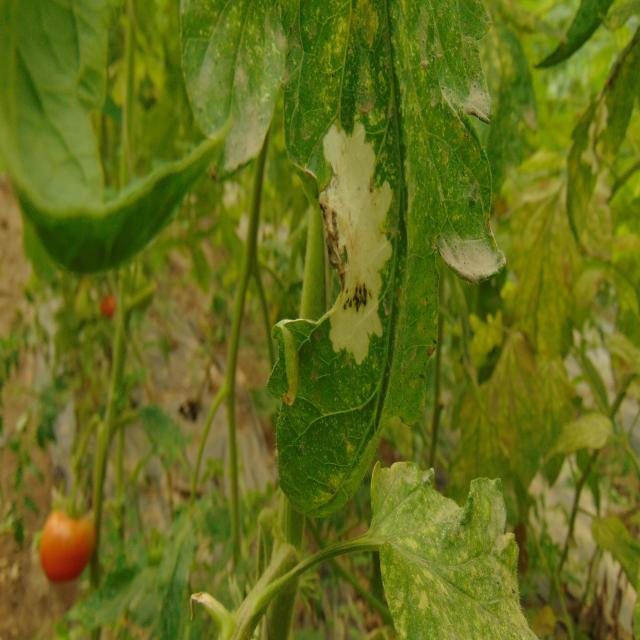Tuta absoluta: (313, 120, 404, 367)
